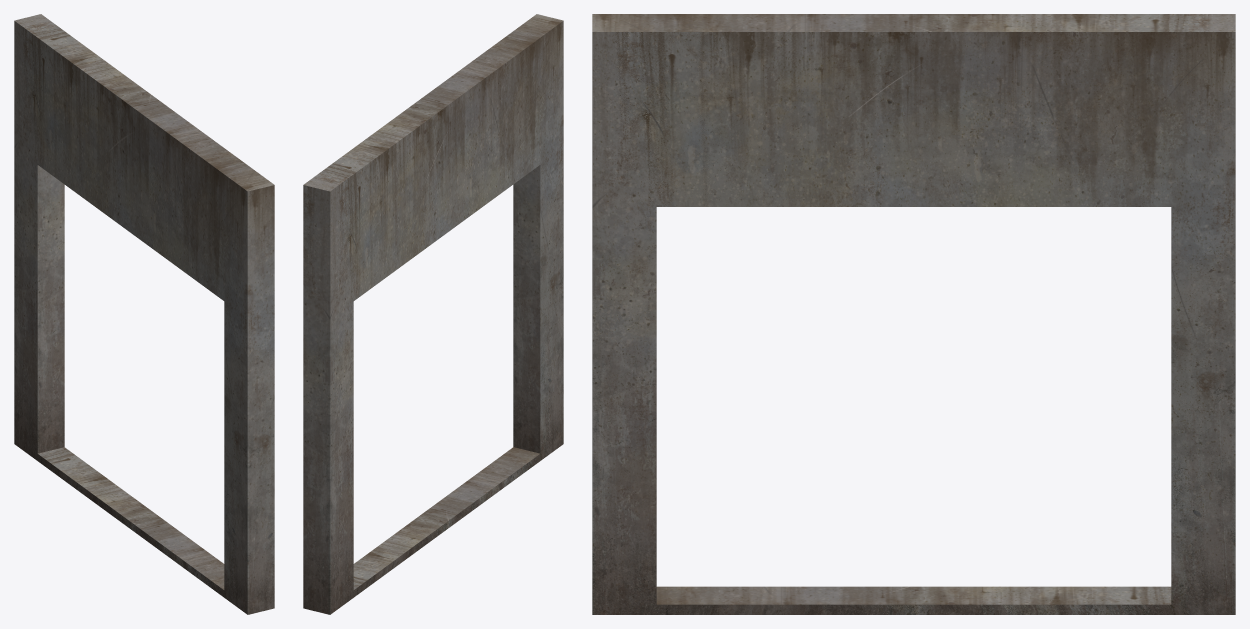
File: wall01_door2m_C.fbx
The picture shows the model from 3 angles, left to right: view 1: azimuth 30°, elevation 25°; view 2: azimuth 150°, elevation 25°; view 3: azimuth 270°, elevation 25°; orthographic projection. The views are drawn at different scales.
Visible parts, largest first — view 1: wall01_door2m_C; view 2: wall01_door2m_C; view 3: wall01_door2m_C.
Boxes of the visible parts, x1,y1,x2,y2 form: wall01_door2m_C: [14, 14, 274, 614]; wall01_door2m_C: [303, 14, 563, 614]; wall01_door2m_C: [592, 14, 1235, 614].
Size of the model in its own units: 20 by 300 by 300.
